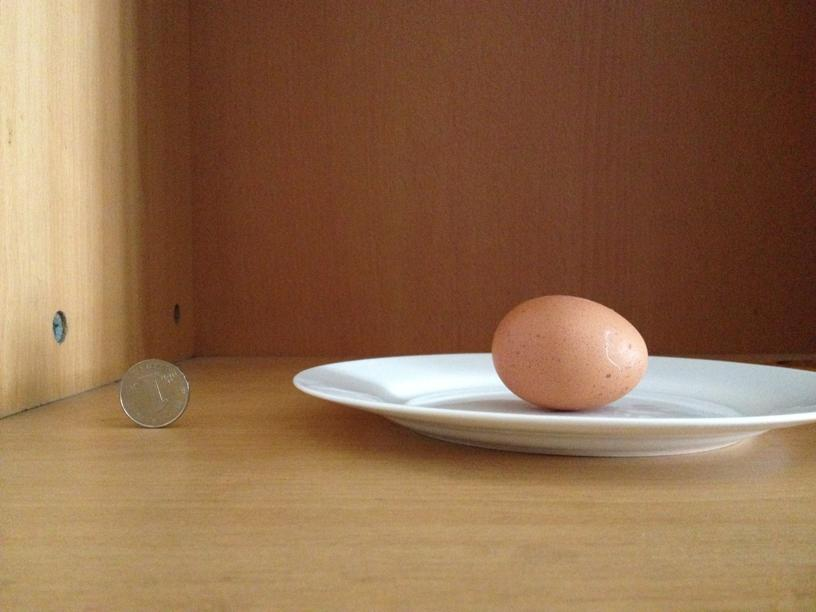coin: (115, 357, 189, 427)
egg: (489, 293, 648, 408)
